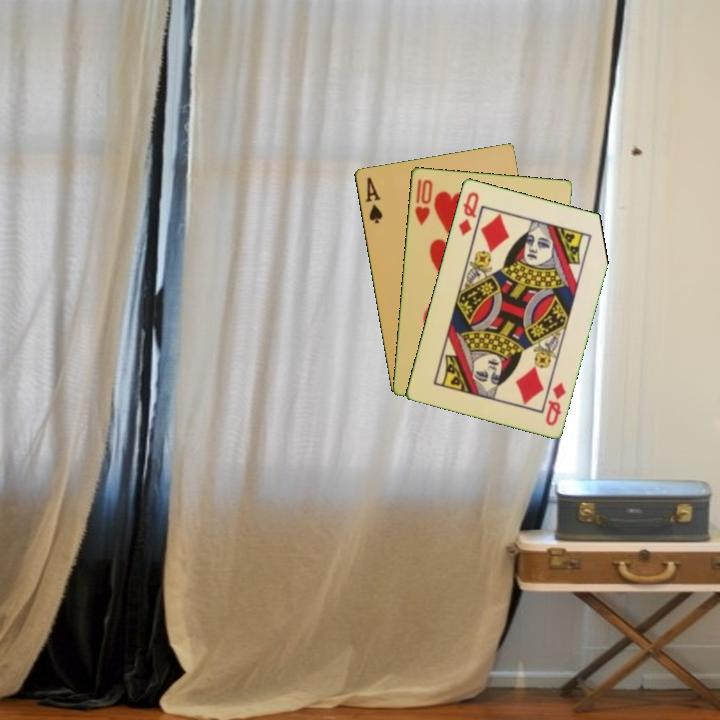10h: (411, 175, 435, 227)
As: (362, 173, 385, 226)
Qd: (455, 188, 482, 239), (542, 378, 568, 428)
